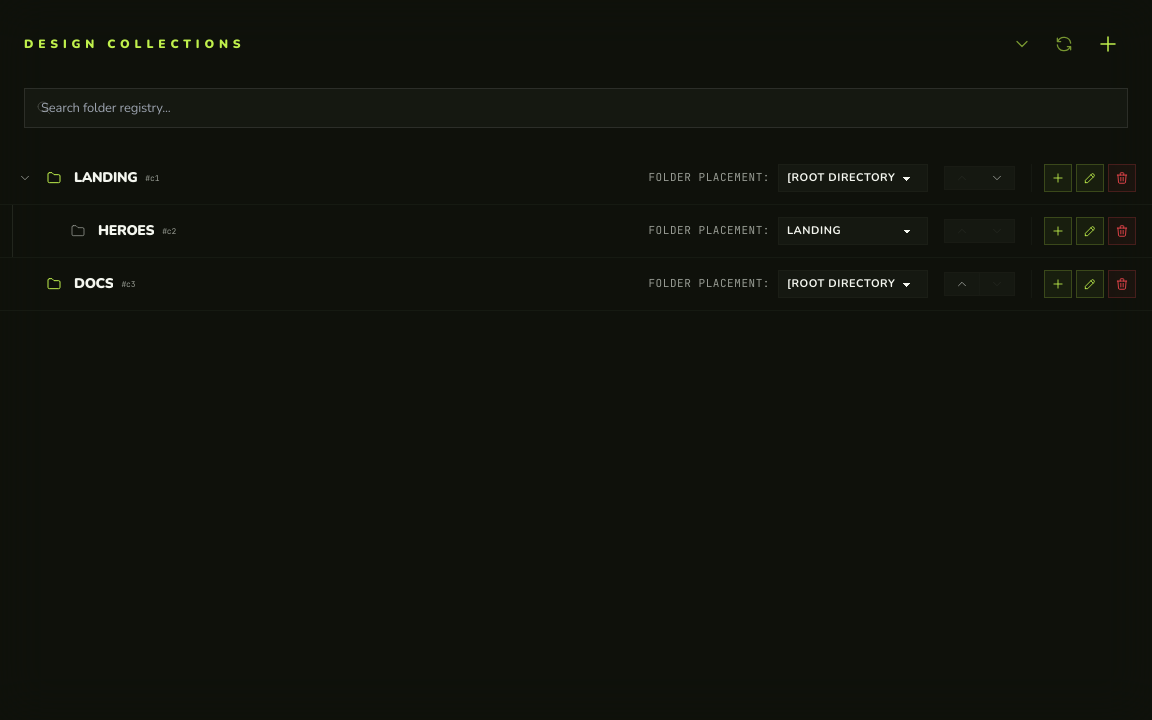
Test case: DesignLibrarySection › delete of a nested collection names the parent it moves to
This screenshot has width=1152, height=720.
Check: the text "Heroes" is shown, box x1=98 y1=221 x2=154 y2=241
Click the button titled "Purge Empty or Filled Folder" in the row of "c2" at (1122, 231), box x1=1108 y1=217 x2=1136 y2=245
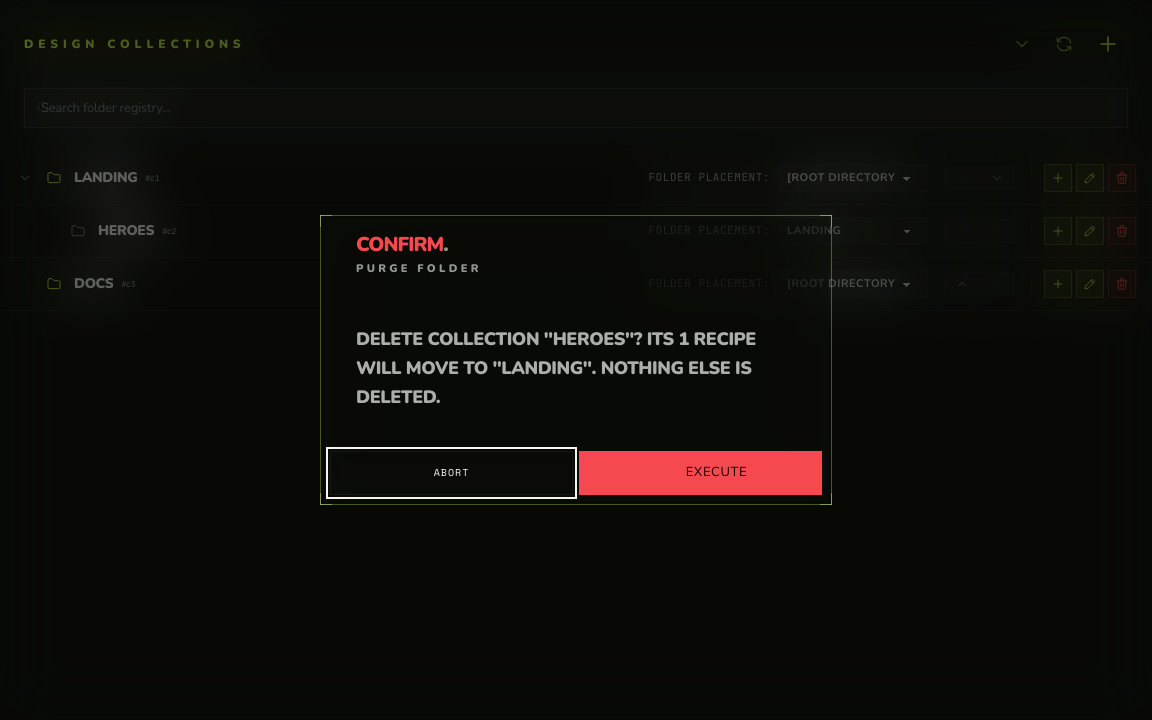
Check: the text "Delete collection \"Heroes\"? Its 1 recipe will move to \"Landing\". Nothing else is deleted." is shown, box x1=356 y1=327 x2=756 y2=409
